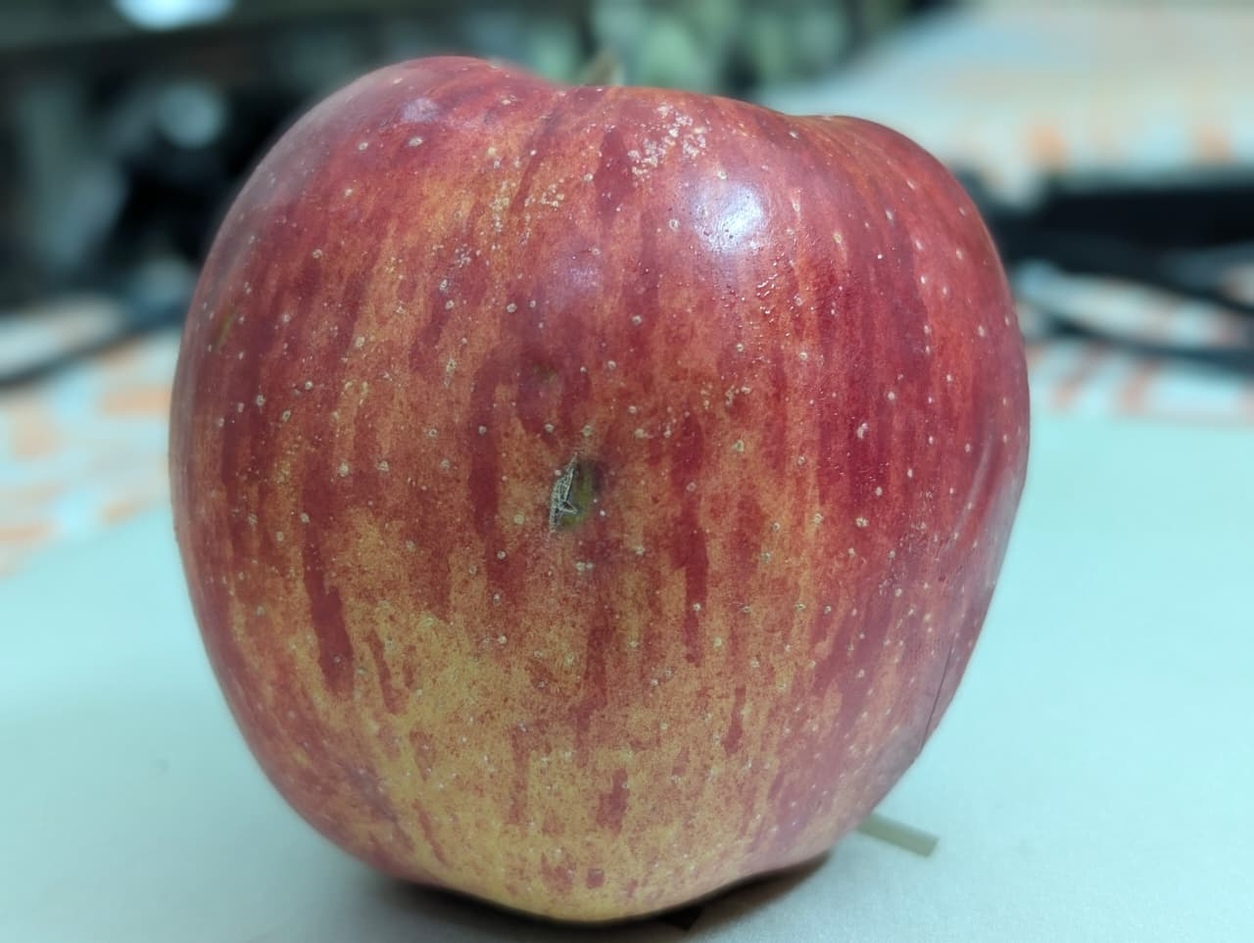apple: (6, 71, 1034, 852)
